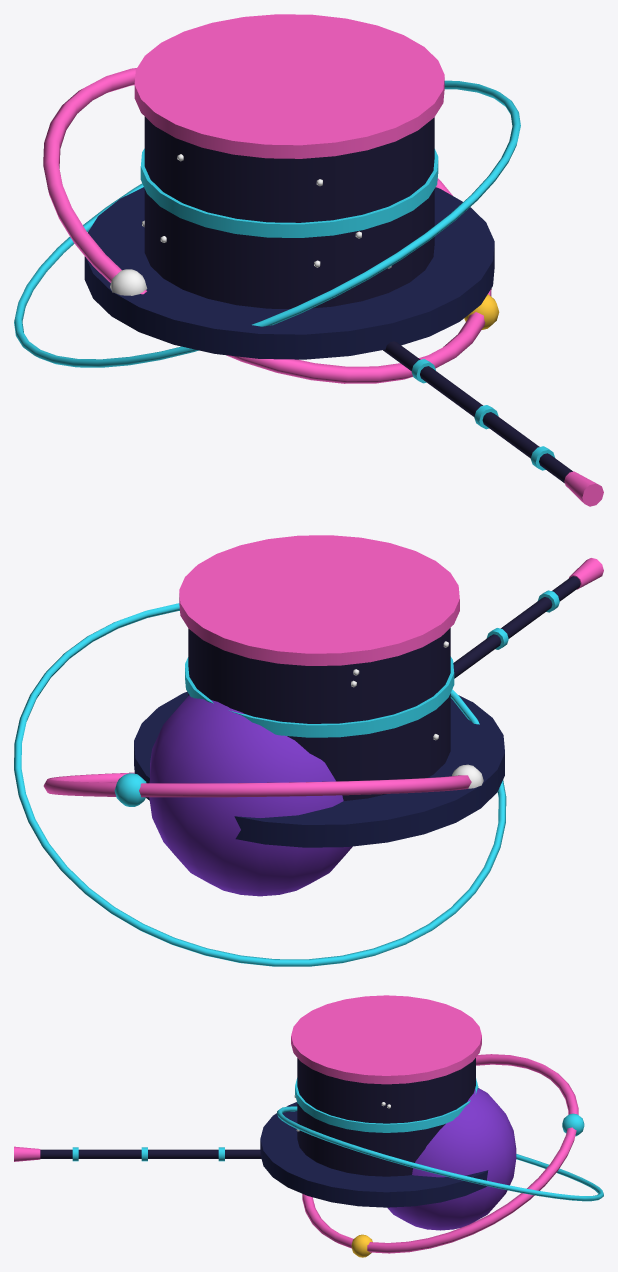
File: orbital.obj
3 renders of one model, top to bottom at view 1: azimuth 30°, elevation 25°; view 2: azimuth 150°, elevation 25°; view 3: azimuth 270°, elevation 25°, orthographic. The views are drawn at different scales.
Parts seen in each view (by area): view 1: stand, turret, barrel; view 2: stand, turret, barrel; view 3: stand, turret, barrel.
Boxes of the visible parts, x1,y1,x2,y2 form: stand: [84, 14, 494, 359]; turret: [14, 68, 520, 383]; barrel: [383, 341, 603, 506]; stand: [134, 535, 504, 847]; turret: [14, 603, 506, 966]; barrel: [453, 558, 603, 678]; stand: [260, 995, 488, 1207]; turret: [277, 1054, 603, 1257]; barrel: [14, 1146, 261, 1161].
Size of the model in its own units: 2.09 by 1.3 by 3.83.
